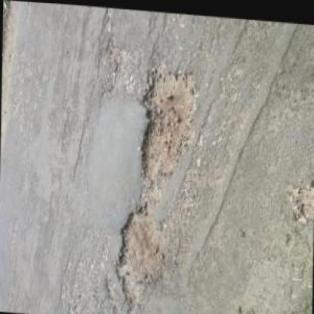Hueco: (138, 60, 200, 190), (112, 198, 168, 306)
